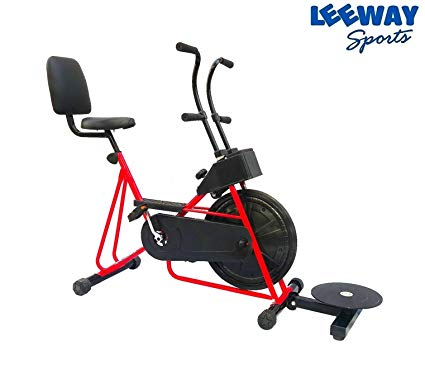gym_bike: (36, 39, 369, 350)
